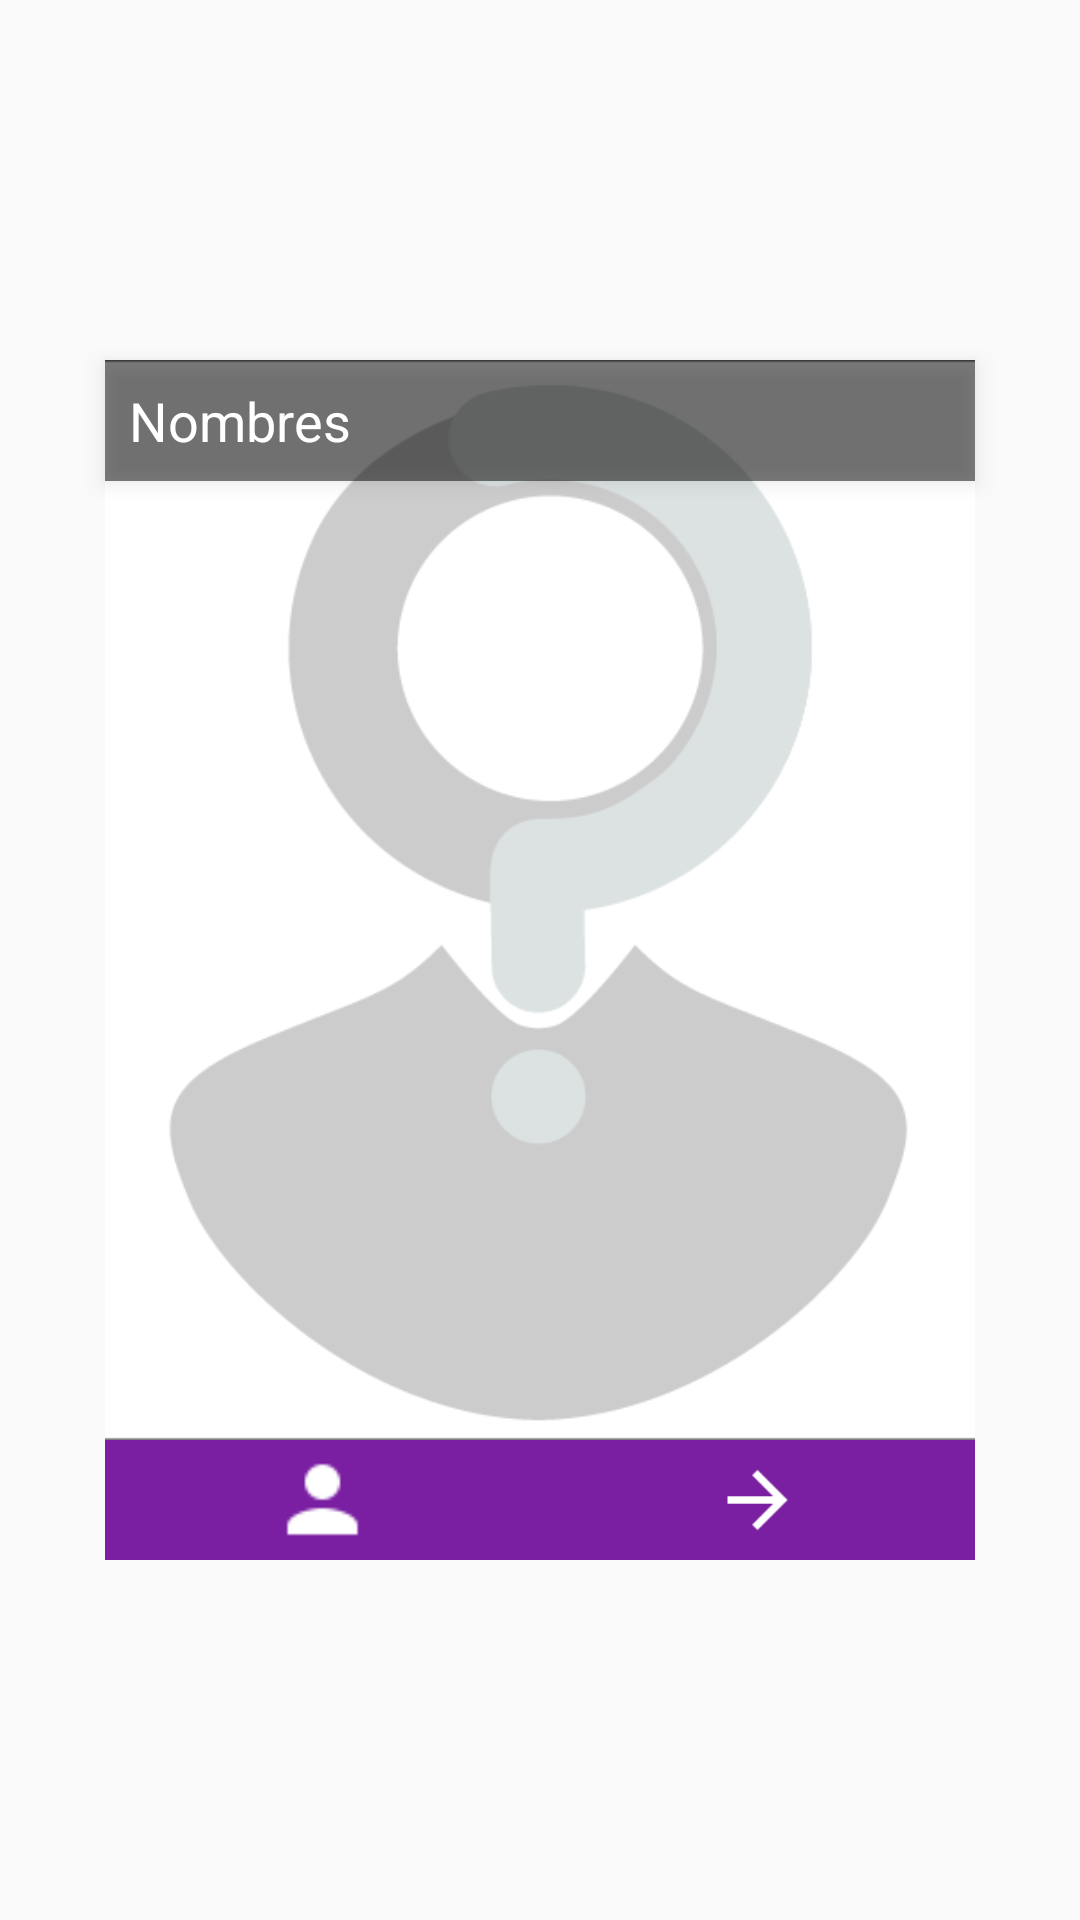

Icon click points for this 1080×1920 phone screenshot, format (x=x, y=y):
user: (x=322, y=1499)
